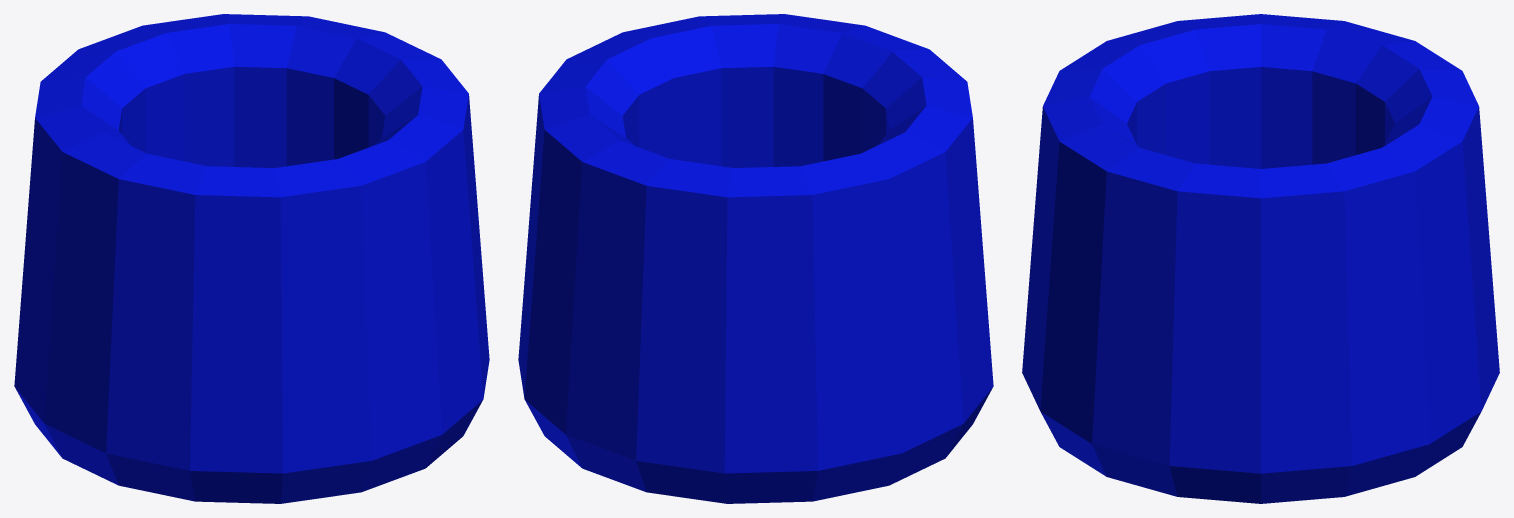
The picture shows the model from 3 angles, left to right: view 1: azimuth 30°, elevation 25°; view 2: azimuth 150°, elevation 25°; view 3: azimuth 270°, elevation 25°; orthographic projection.
Parts seen in each view (by area): view 1: Torus.001; view 2: Torus.001; view 3: Torus.001.
Part boxes in pixels (<box>): Torus.001: <box>14,14,489,503</box>; Torus.001: <box>518,14,993,503</box>; Torus.001: <box>1022,14,1499,503</box>.
Size of the model in its own units: 2600 by 1951 by 2600.
